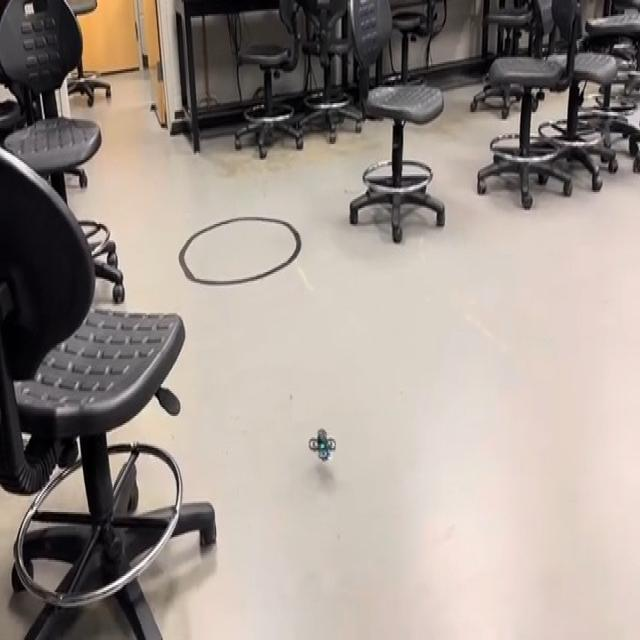drone: (301, 416, 342, 481)
